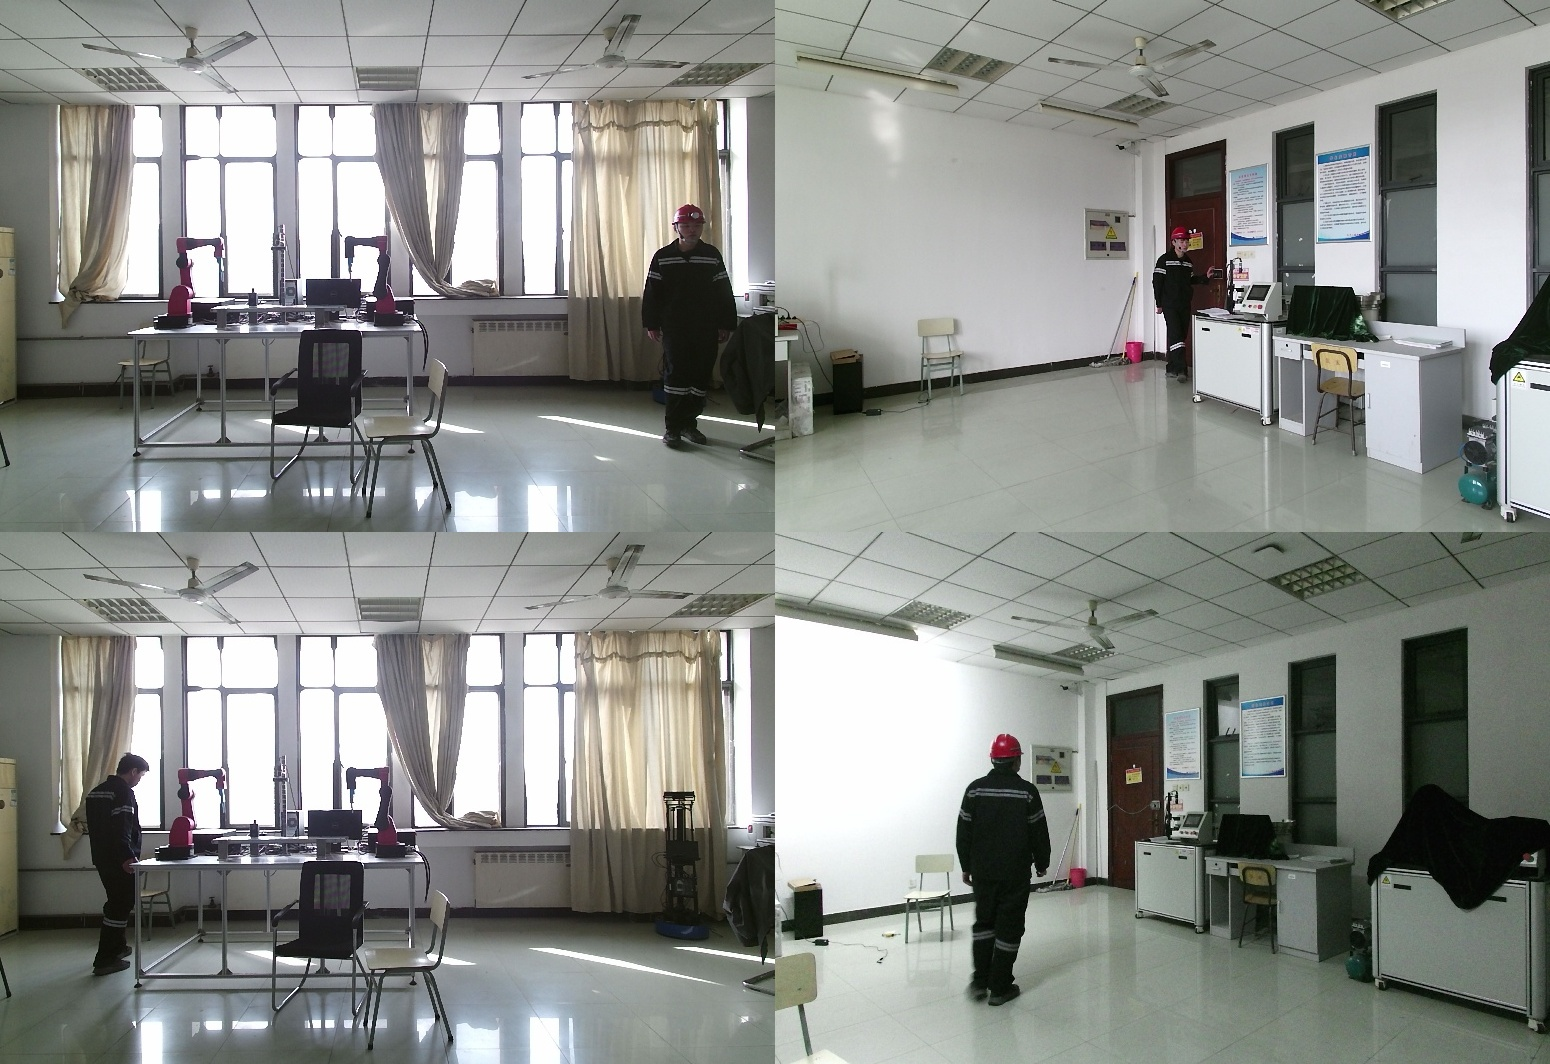person: (951, 733, 1065, 1006), (643, 207, 738, 448), (83, 755, 150, 977), (1153, 228, 1211, 386)
